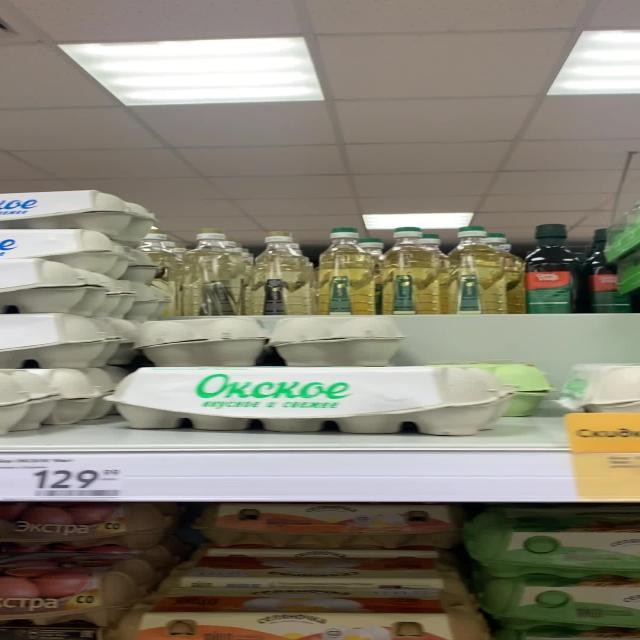egg box: (112, 361, 508, 433), (136, 579, 469, 633), (214, 496, 463, 548), (169, 543, 464, 586), (366, 217, 444, 328), (420, 225, 503, 313), (506, 225, 574, 329), (304, 225, 375, 318), (252, 232, 318, 313), (593, 226, 631, 314)
